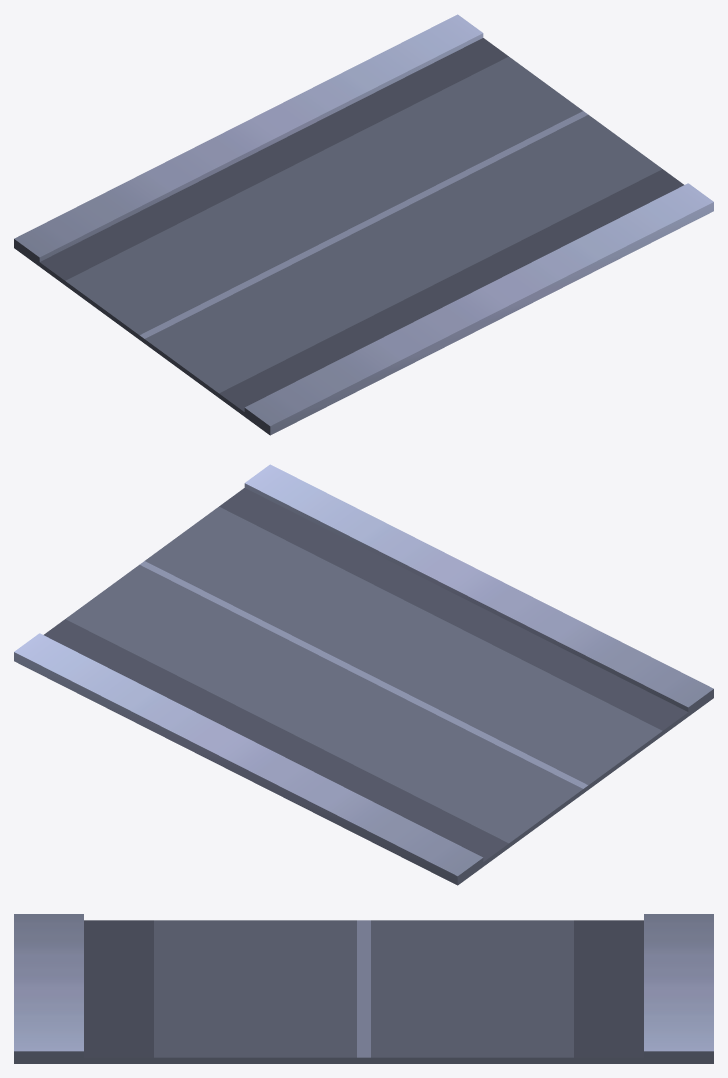
File: road-slant-flat.glb
3 renders of one model, top to bottom at view 1: azimuth 30°, elevation 25°; view 2: azimuth 150°, elevation 25°; view 3: azimuth 270°, elevation 25°, orthographic. The views are drawn at different scales.
Visible parts, largest first — view 1: road-slant-flat; view 2: road-slant-flat; view 3: road-slant-flat.
Part boxes in pixels (left/top/right/bottom): road-slant-flat: left=14, top=14, right=713, bottom=435; road-slant-flat: left=14, top=464, right=713, bottom=885; road-slant-flat: left=14, top=914, right=713, bottom=1063.
Bounding box in the file's own units: 1 × 0.2701 × 1.
1 material, 1 textured.
